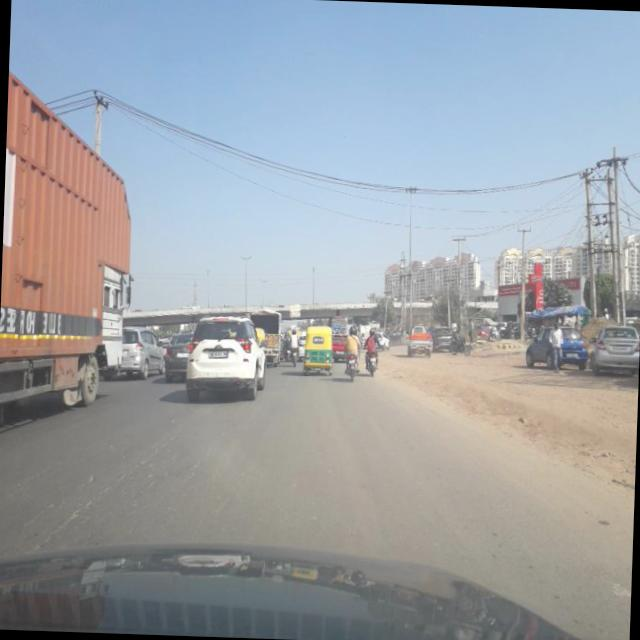pothole: (38, 400, 202, 551)
